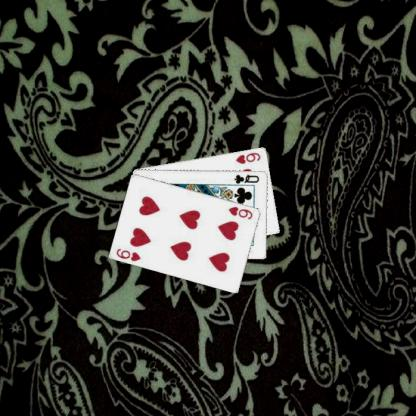6H: (226, 204, 254, 220), (114, 246, 142, 262), (234, 150, 262, 165)
QC: (232, 172, 260, 184)
